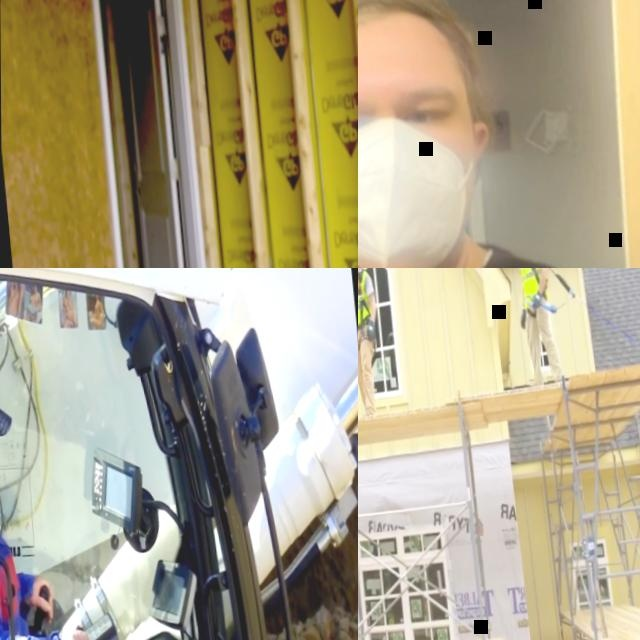Mask: (358, 112, 477, 268)
NO-Hardhat: (358, 0, 456, 83)
Person: (358, 0, 640, 268), (0, 347, 129, 640), (509, 268, 562, 387), (358, 268, 385, 417)
Safety Vest: (0, 506, 32, 640), (516, 268, 548, 309), (358, 268, 371, 325)
machinery: (0, 268, 358, 640)
